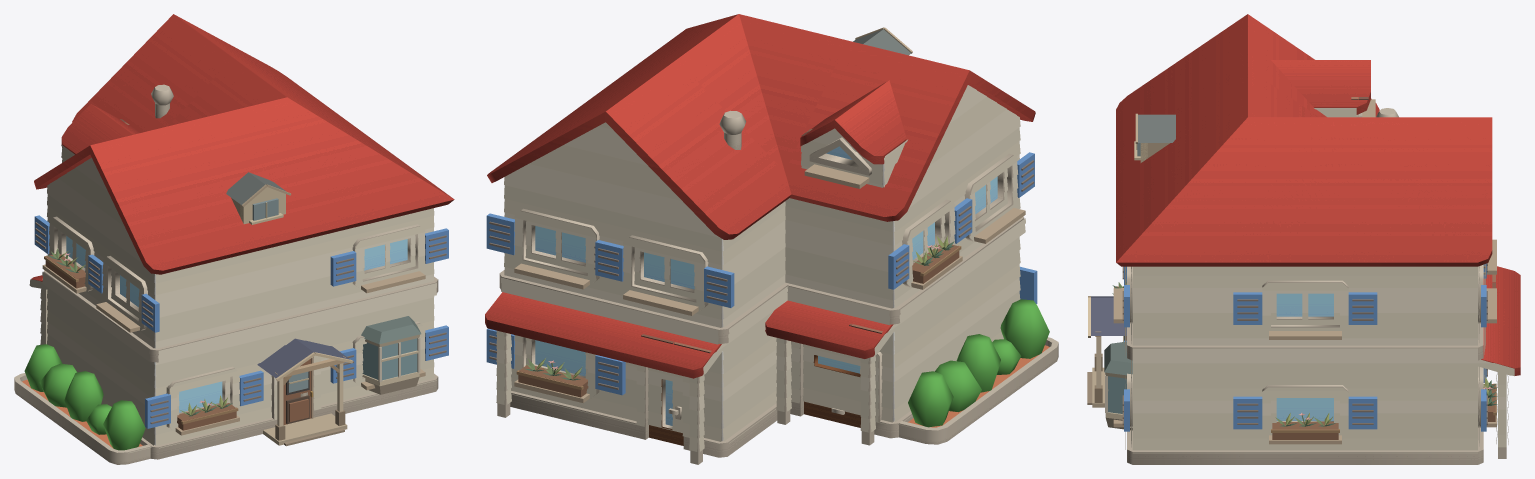
Rendered from house-f-white.glb.
The picture shows the model from 3 angles, left to right: view 1: azimuth 30°, elevation 25°; view 2: azimuth 150°, elevation 25°; view 3: azimuth 270°, elevation 25°; orthographic projection. The views are drawn at different scales.
Visible parts, largest first — view 1: building-type-f, Handlaid_roof_entry_porch_and_joinery, Details; view 2: building-type-f, Handlaid_roof_entry_porch_and_joinery, Details; view 3: building-type-f, Handlaid_roof_entry_porch_and_joinery, Details.
Boxes of the visible parts, left/top/right/bottom form: building-type-f: left=14, top=14, right=454, bottom=464; Handlaid_roof_entry_porch_and_joinery: left=29, top=119, right=446, bottom=453; Details: left=34, top=215, right=448, bottom=428; building-type-f: left=485, top=14, right=1058, bottom=464; Handlaid_roof_entry_porch_and_joinery: left=489, top=27, right=1034, bottom=451; Details: left=486, top=152, right=1037, bottom=395; building-type-f: left=1116, top=14, right=1520, bottom=464; Handlaid_roof_entry_porch_and_joinery: left=1087, top=97, right=1514, bottom=453; Details: left=1124, top=263, right=1486, bottom=431.
Size of the model in its own units: 1.44 by 1.14 by 1.51.
Materials: 45 (1 with a texture image).
